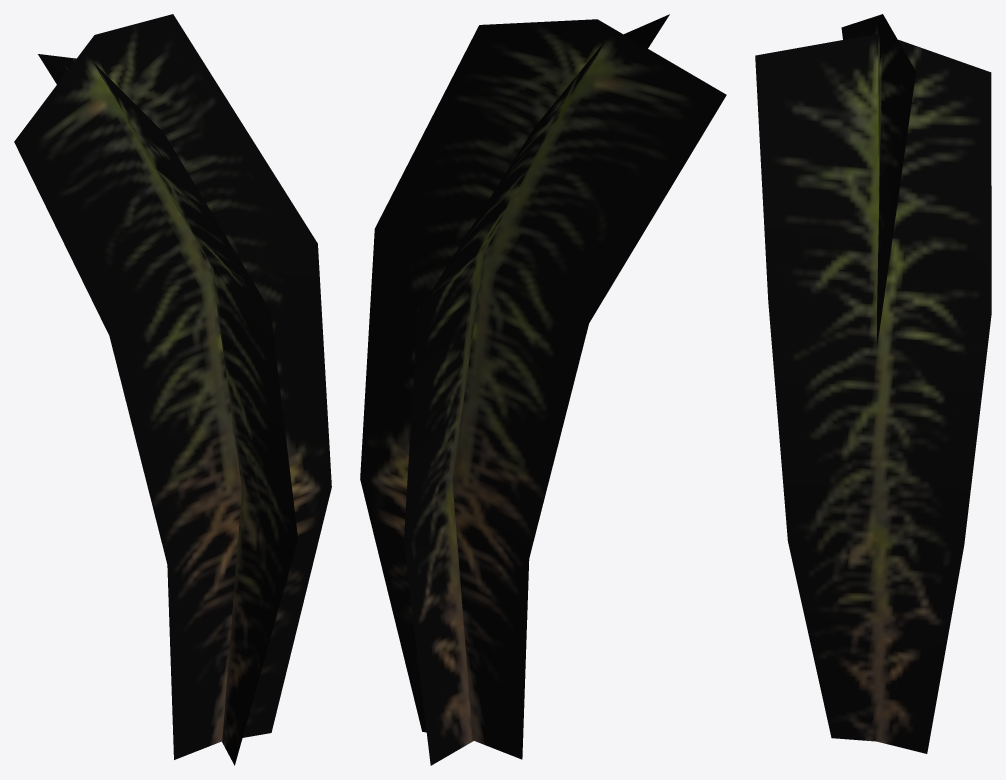
File: moss_01_tall_b.glb
3 views of the same model, side by side, from view 1: azimuth 30°, elevation 25°; view 2: azimuth 150°, elevation 25°; view 3: azimuth 270°, elevation 25° (orthographic). The views are drawn at different scales.
Visible parts, largest first — view 1: moss_01_tall_b_LOD0; view 2: moss_01_tall_b_LOD0; view 3: moss_01_tall_b_LOD0.
Boxes of the visible parts, left/top/right/bottom form: moss_01_tall_b_LOD0: left=14, top=14, right=331, bottom=765; moss_01_tall_b_LOD0: left=360, top=14, right=726, bottom=765; moss_01_tall_b_LOD0: left=755, top=14, right=991, bottom=753.
Bounding box in the file's own units: 0.0177 × 0.0372 × 0.0118.
1 material, 1 textured.
